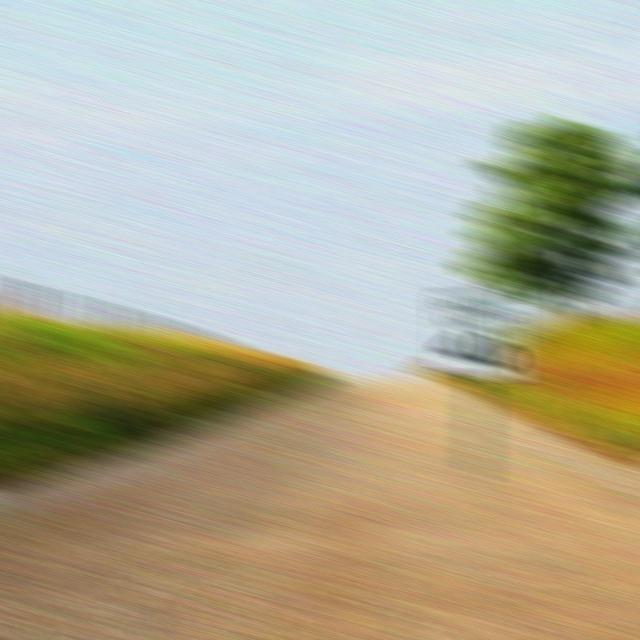speedLimit40: (435, 291, 523, 477)
